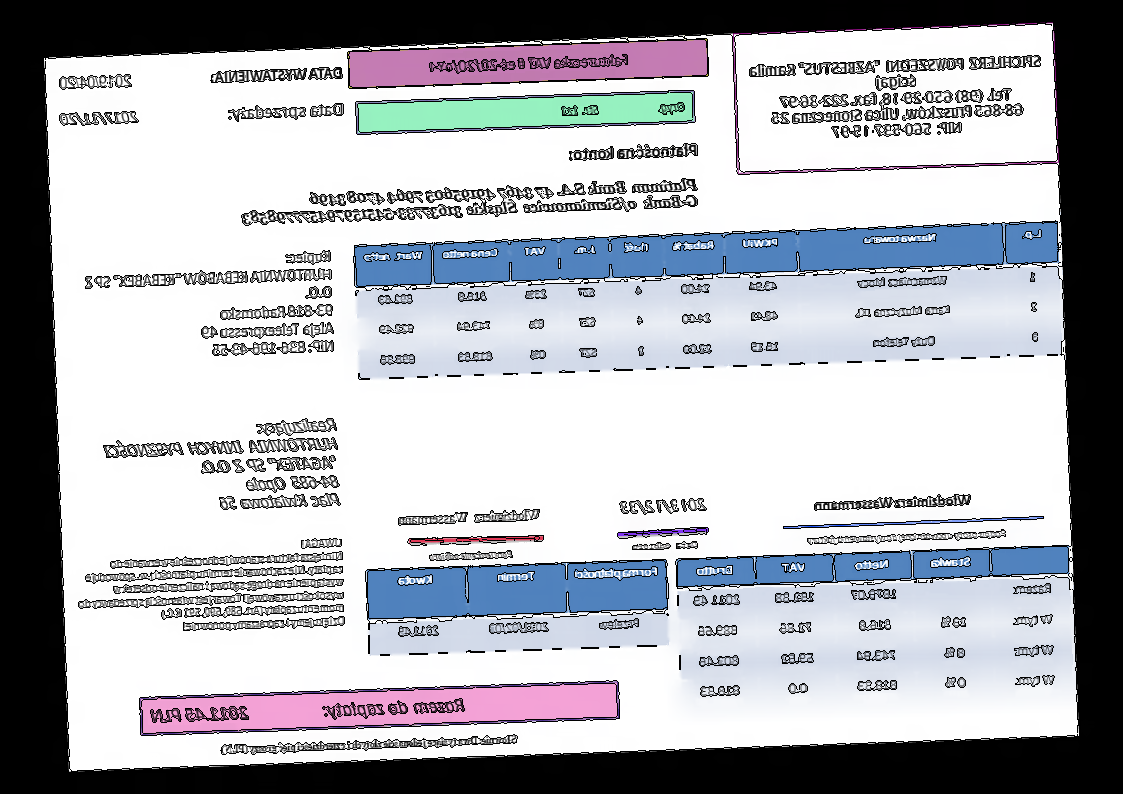Table: (351, 218, 1065, 382), (674, 543, 1076, 712), (363, 557, 672, 658)
TextBox: (82, 247, 337, 365), (745, 51, 1046, 145), (72, 535, 348, 637), (100, 413, 344, 520), (236, 174, 701, 230), (148, 693, 470, 729), (217, 730, 521, 758), (428, 50, 633, 77), (804, 525, 1010, 548), (810, 488, 975, 515), (207, 61, 344, 88), (567, 139, 700, 166), (394, 505, 545, 528), (558, 97, 687, 120), (225, 100, 345, 124), (618, 494, 710, 517), (58, 106, 142, 129), (55, 70, 134, 91), (427, 547, 516, 564), (628, 535, 703, 554)
